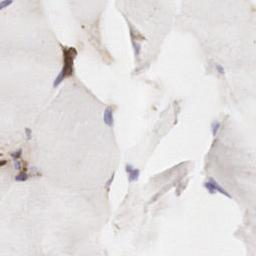nucleus: (206, 178, 229, 197), (104, 105, 114, 125), (129, 168, 140, 182), (54, 69, 63, 86), (132, 41, 141, 56), (107, 172, 115, 188), (212, 120, 221, 134), (216, 63, 224, 75), (1, 1, 12, 9), (125, 164, 134, 172), (12, 148, 22, 155), (17, 173, 26, 180), (15, 158, 20, 170), (25, 127, 31, 137)
positive_cell: (55, 43, 76, 88), (130, 25, 144, 56), (16, 155, 30, 180)
